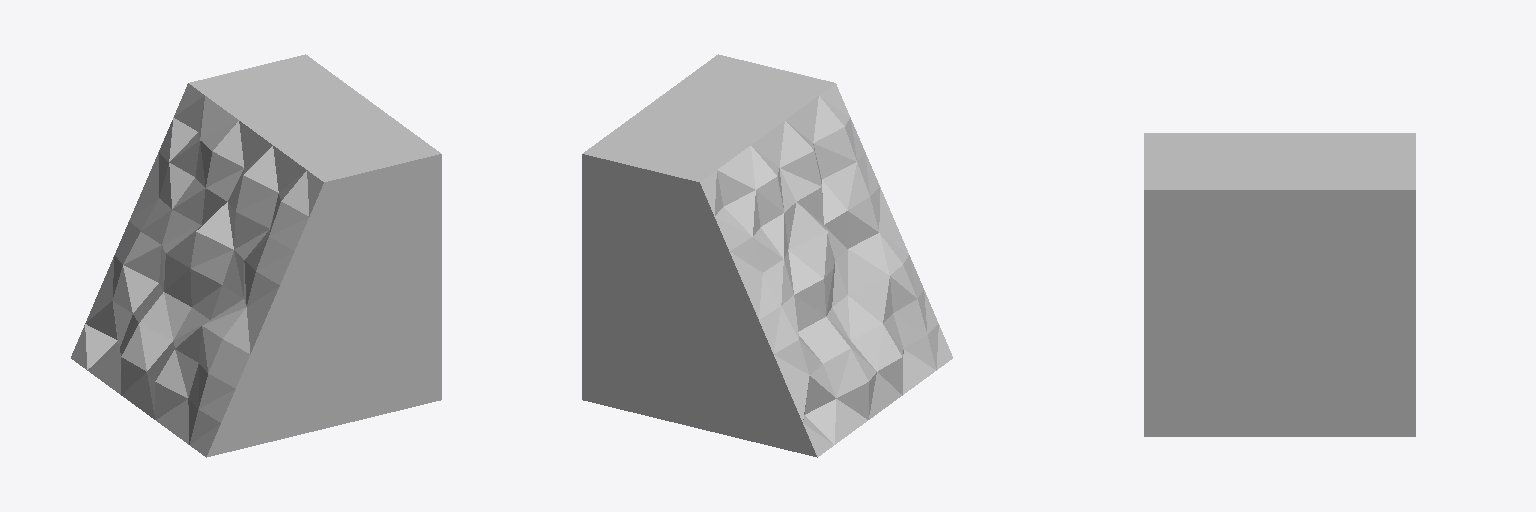
Rendered from wall.obj.
The picture shows the model from 3 angles: view 1: azimuth 30°, elevation 25°; view 2: azimuth 150°, elevation 25°; view 3: azimuth 270°, elevation 25°; orthographic projection.
Visible parts, largest first — view 1: Cube_Cube.006; view 2: Cube_Cube.006; view 3: Cube_Cube.006.
Boxes of the visible parts, x1=… form: Cube_Cube.006: x1=71, y1=54, x2=441, y2=457; Cube_Cube.006: x1=582, y1=54, x2=952, y2=457; Cube_Cube.006: x1=1144, y1=133, x2=1415, y2=436.
Size of the model in its own units: 1 by 1 by 1.